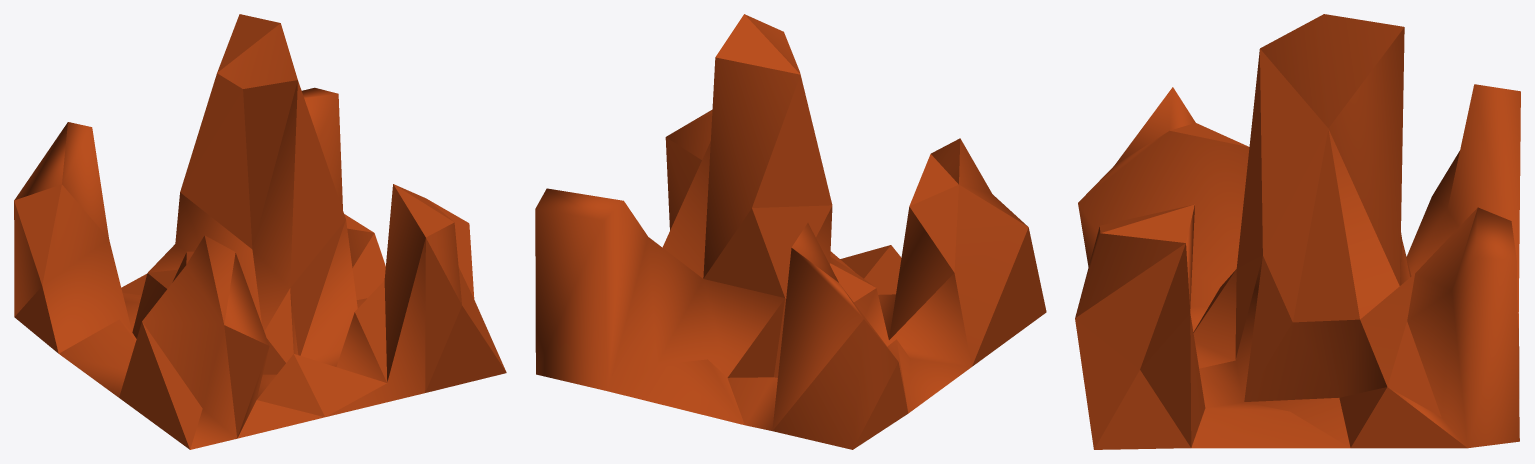
File: Mountain_desert_005.glb
3 renders of one model, left to right at view 1: azimuth 30°, elevation 25°; view 2: azimuth 150°, elevation 25°; view 3: azimuth 270°, elevation 25°, orthographic. The views are drawn at different scales.
Visible parts, largest first — view 1: Mountain_desert_005; view 2: Mountain_desert_005; view 3: Mountain_desert_005.
Boxes of the visible parts, x1=… form: Mountain_desert_005: x1=14, y1=14, x2=506, y2=449; Mountain_desert_005: x1=535, y1=14, x2=1046, y2=449; Mountain_desert_005: x1=1075, y1=14, x2=1520, y2=449.
Bounding box in the file's own units: 24.57 × 21.62 × 24.09.
Materials: 1 (1 with a texture image).
